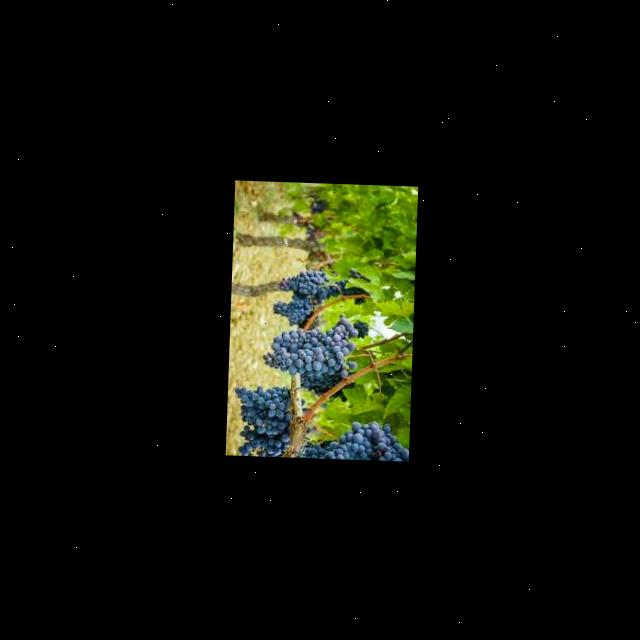grape: (260, 310, 369, 400), (296, 418, 408, 460), (231, 384, 293, 456)
